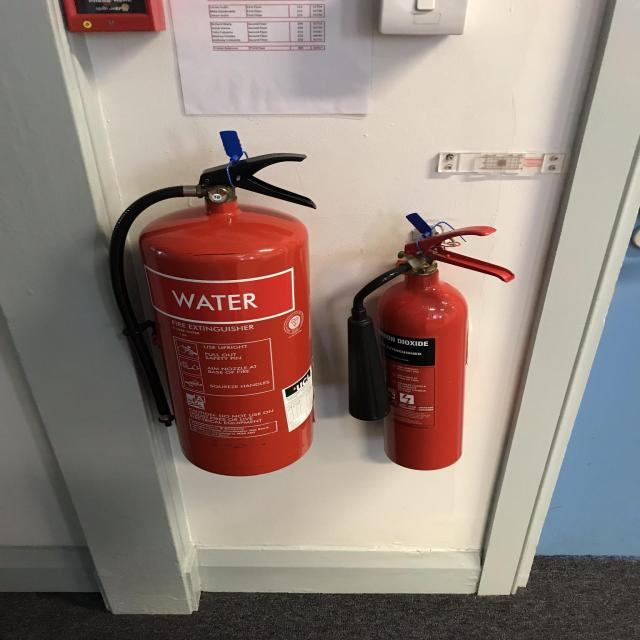fire_extinguisher: (102, 150, 322, 479), (343, 212, 522, 472)
